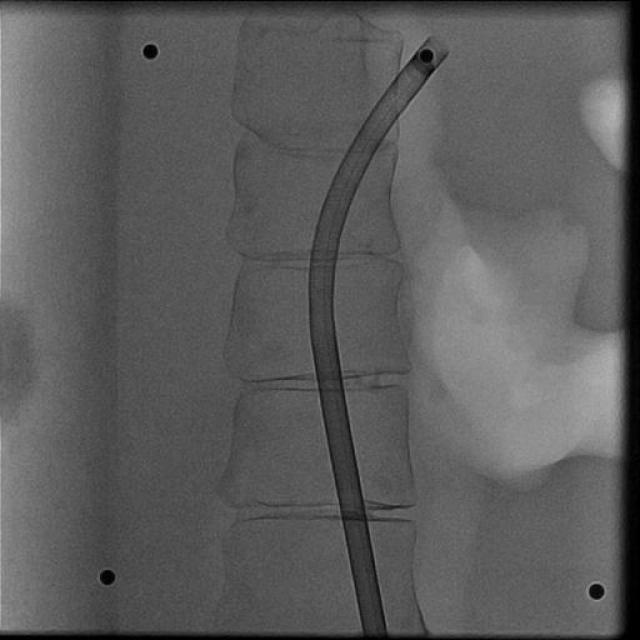bend: (308, 306, 333, 326)
entry: (363, 630, 388, 636)
marker: (410, 52, 436, 76)
tip: (427, 37, 449, 57)
